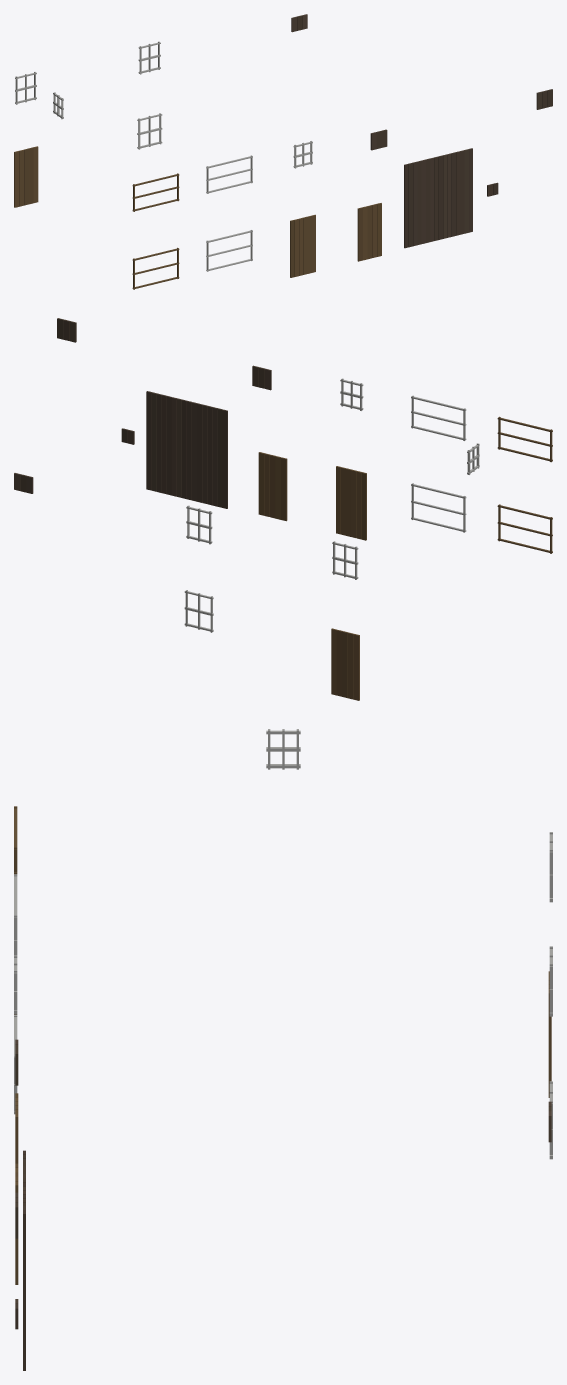
File: SM_Bld_007_Wood.glb
3 views of the same model, one above another, from view 1: azimuth 30°, elevation 25°; view 2: azimuth 150°, elevation 25°; view 3: azimuth 270°, elevation 25° (orthographic). The views are drawn at different scales.
Parts seen in each view (by area): view 1: SM_Bld_007_Wood; view 2: SM_Bld_007_Wood; view 3: SM_Bld_007_Wood.
Boxes of the visible parts, x1,y1,x2,y2 form: SM_Bld_007_Wood: [14, 14, 552, 289]; SM_Bld_007_Wood: [14, 318, 552, 700]; SM_Bld_007_Wood: [14, 729, 552, 1370].
Bounding box in the file's own units: 16.05 × 6.15 × 9.33.
